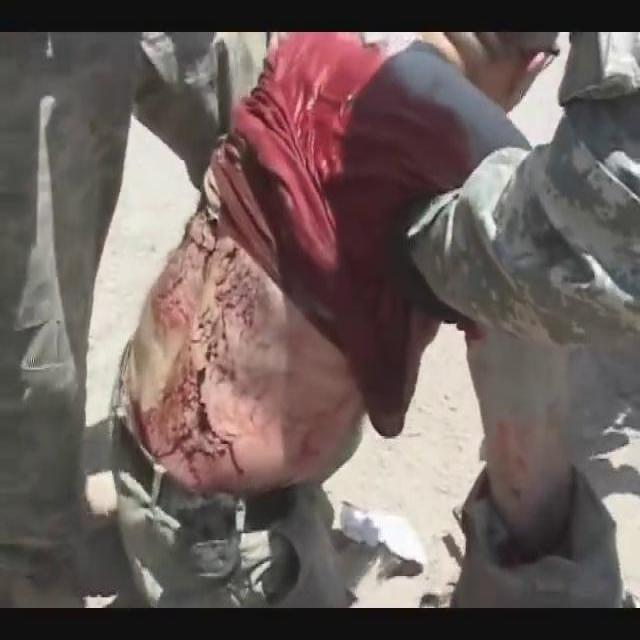flood: (120, 202, 276, 480)
